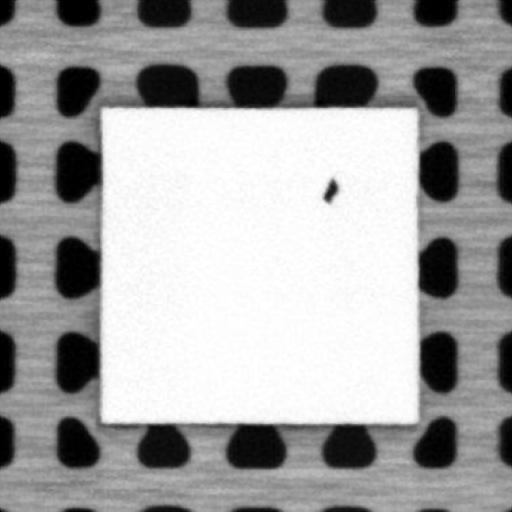DIE_INK: (320, 174, 340, 204)
